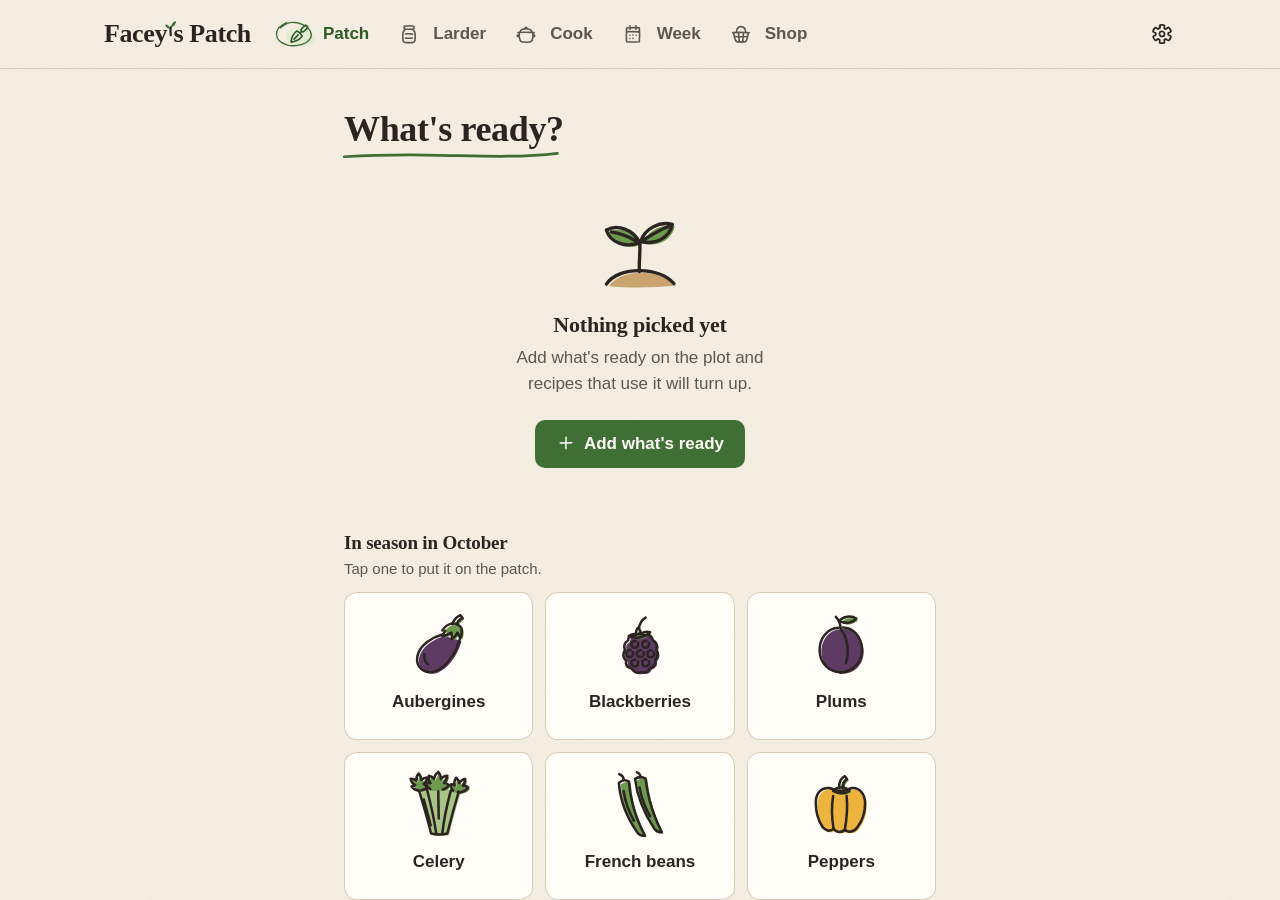
Test case: App shell › opens settings from the header
This screenshot has width=1280, height=900.
Click the button named "Settings".
click(1162, 34)  # box [1140, 12, 1184, 56]
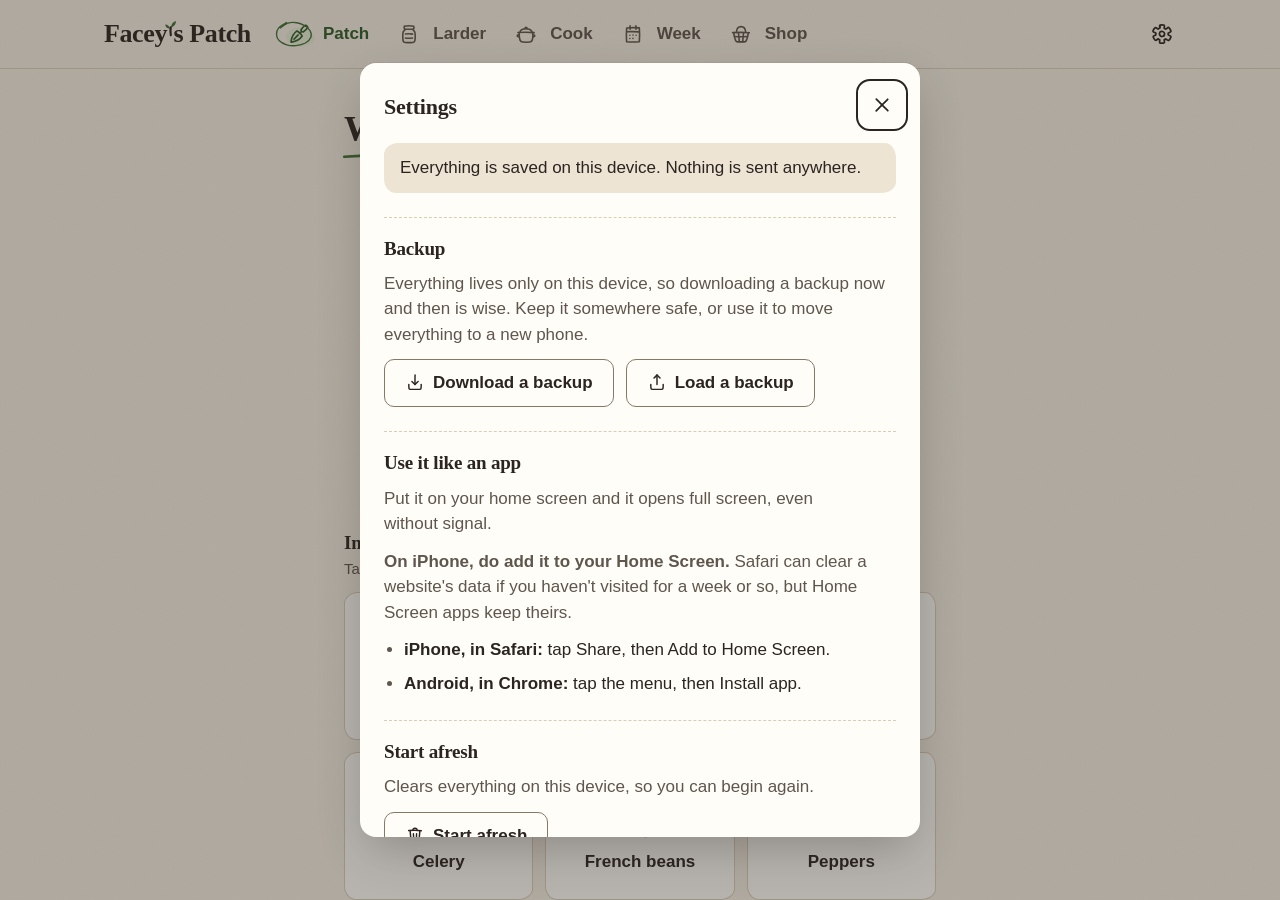
Expected: the dialog "Settings" is shown, [360, 63, 920, 837]
